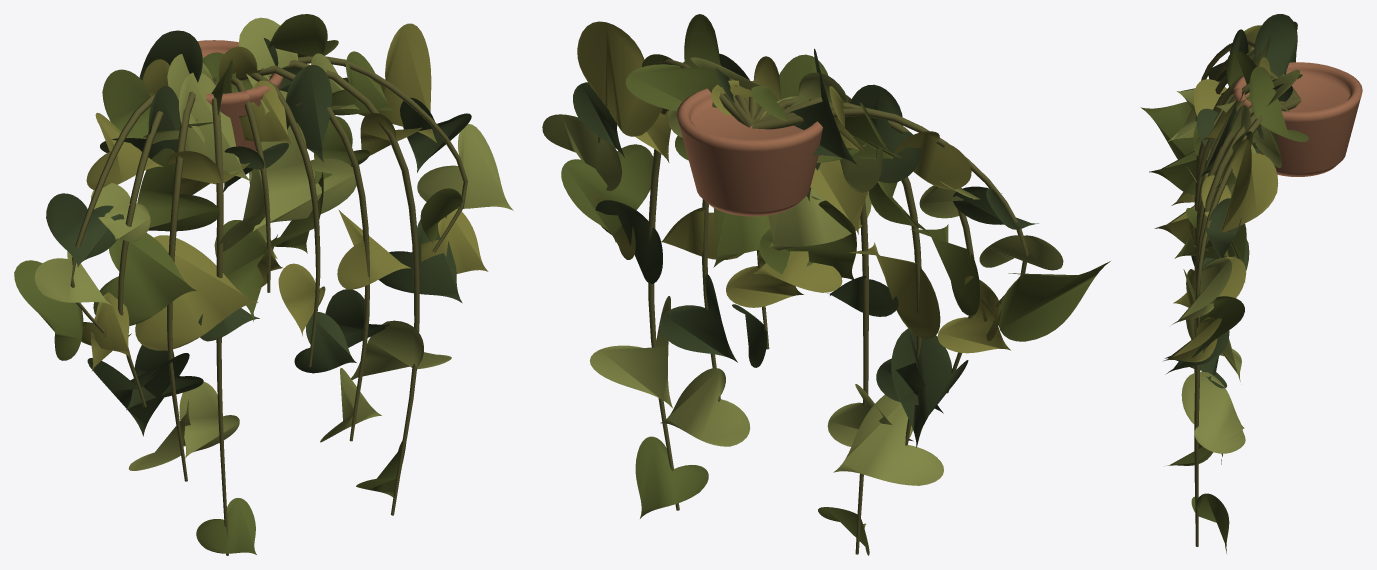
Rendered from plant.glb.
The picture shows the model from 3 angles, left to right: view 1: azimuth 30°, elevation 25°; view 2: azimuth 150°, elevation 25°; view 3: azimuth 270°, elevation 25°; orthographic projection. The views are drawn at different scales.
Visible parts, largest first — view 1: plant; view 2: plant; view 3: plant.
Boxes of the visible parts, x1,y1,x2,y2 form: plant: [14, 14, 513, 555]; plant: [542, 14, 1110, 555]; plant: [1140, 14, 1362, 553].
Size of the model in its own units: 1.37 by 1.35 by 0.5969.
